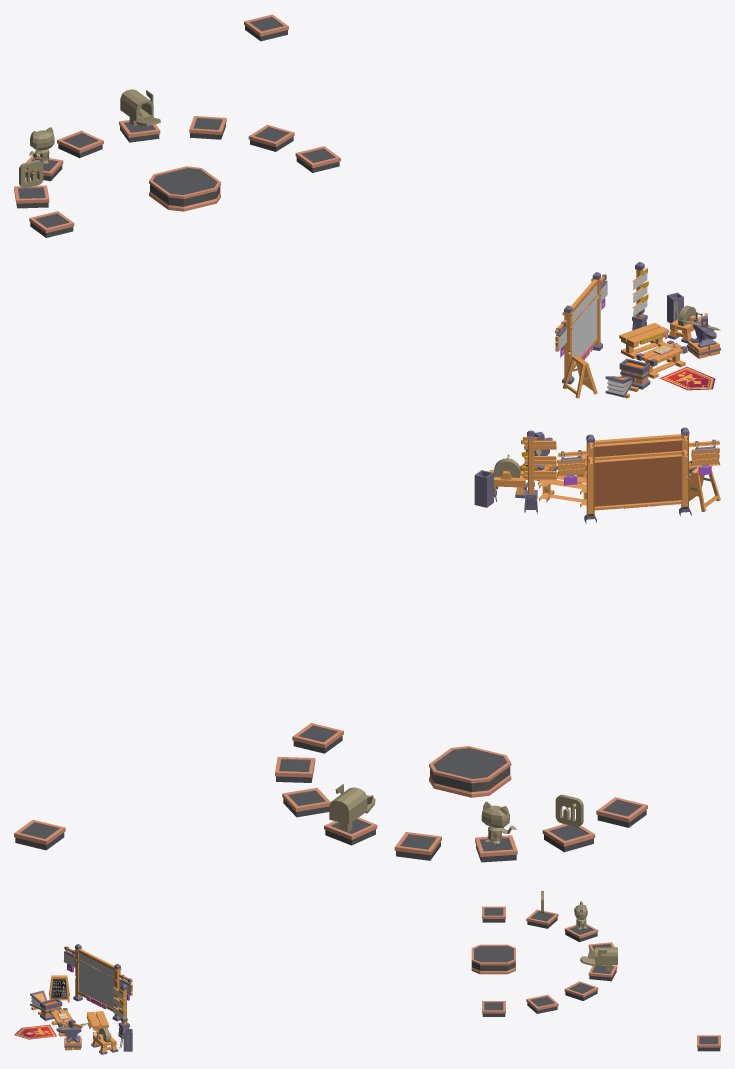
Rendered from areas-projects-social.glb.
3 views of the same model, one above another, from view 1: azimuth 30°, elevation 25°; view 2: azimuth 150°, elevation 25°; view 3: azimuth 270°, elevation 25° (orthographic). The views are drawn at different scales.
Parts seen in each view (by area): view 1: Cube.133, Cube.065, mailPhysicalDynamic, Cube.090, refImages, table.002, carpet, Cube.094, Cube.082, gitHubPhysicalDynamic, Cube.101; view 2: Cube.133, Cube.065, mailPhysicalDynamic, Cube.080, gitHubPhysicalDynamic, cube.023, Cube.077, linkedInPhysicalDynamic, table.002, quenchPhysicalDynamic.001; view 3: Cube.133, Cube.065, refImages, mailPhysicalDynamic, carpet, Cube.094, Cube.090, Cube.073, table.002, Cube.082, Cube.101, gitHubPhysicalDynamic (+1 smaller).
Part boxes in pixels (left/top/right/bottom): Cube.133: left=14, top=14, right=340, bottom=237; Cube.065: left=562, top=262, right=647, bottom=384; mailPhysicalDynamic: left=120, top=89, right=160, bottom=125; Cube.090: left=636, top=340, right=687, bottom=378; refImages: left=572, top=300, right=597, bottom=363; table.002: left=619, top=322, right=669, bottom=358; carpet: left=659, top=367, right=715, bottom=390; Cube.094: left=686, top=321, right=720, bottom=358; Cube.082: left=563, top=355, right=597, bottom=398; gitHubPhysicalDynamic: left=29, top=127, right=54, bottom=164; Cube.101: left=619, top=358, right=650, bottom=389; Cube.133: left=14, top=723, right=647, bottom=862; Cube.065: left=524, top=427, right=691, bottom=523; mailPhysicalDynamic: left=329, top=784, right=375, bottom=832; Cube.080: left=594, top=440, right=681, bottom=457; gitHubPhysicalDynamic: left=481, top=801, right=516, bottom=844; cube.023: left=689, top=439, right=720, bottom=475; Cube.077: left=557, top=450, right=587, bottom=486; linkedInPhysicalDynamic: left=555, top=794, right=583, bottom=826; table.002: left=538, top=473, right=586, bottom=507; quenchPhysicalDynamic.001: left=474, top=470, right=497, bottom=507; Cube.133: left=471, top=906, right=720, bottom=1051; Cube.065: left=73, top=944, right=129, bottom=1038; refImages: left=79, top=963, right=114, bottom=1008; mailPhysicalDynamic: left=580, top=947, right=617, bottom=971; carpet: left=14, top=1024, right=56, bottom=1039; Cube.094: left=56, top=1026, right=81, bottom=1050; Cube.090: left=49, top=1008, right=75, bottom=1036; Cube.073: left=91, top=1033, right=118, bottom=1054; table.002: left=87, top=1011, right=108, bottom=1034; Cube.082: left=49, top=975, right=69, bottom=1002; Cube.101: left=40, top=998, right=62, bottom=1020; gitHubPhysicalDynamic: left=574, top=901, right=587, bottom=929.
Size of the model in its own units: 23.61 by 4.29 by 49.6.
Materials: 6 (4 with a texture image).
